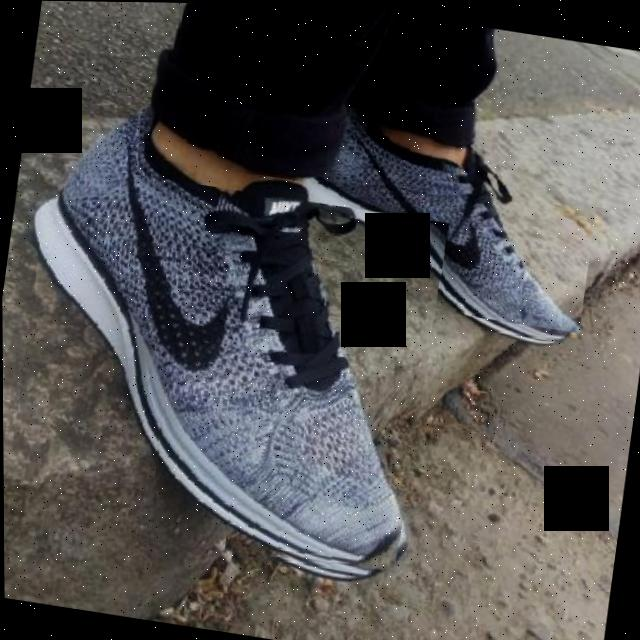shoe: (1, 160, 451, 586), (308, 110, 604, 332)
